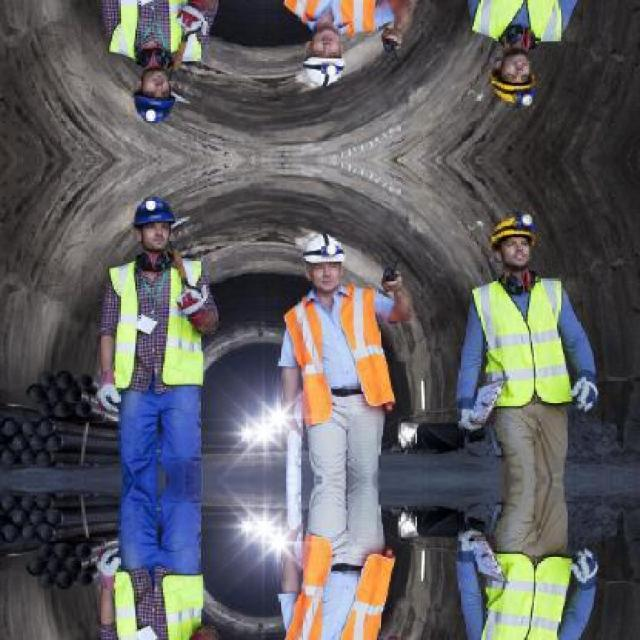Reflective-Jacket: (92, 251, 223, 400), (460, 271, 583, 415), (276, 282, 398, 426), (463, 0, 589, 52)
Safety-Helmet: (482, 204, 548, 250), (291, 226, 354, 272), (122, 190, 183, 236)
